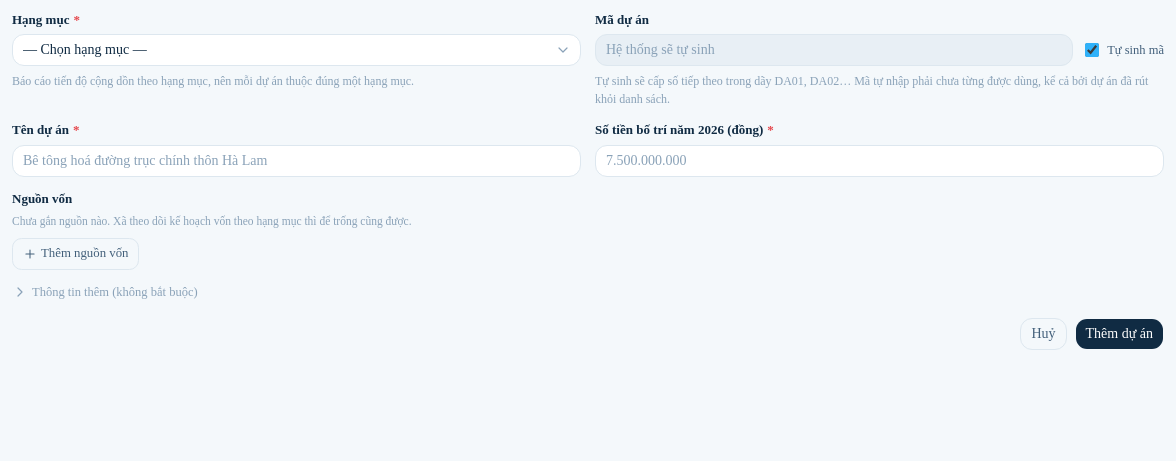
Test: §9 funding list — add form › removing a row gives its source back to the others
Click the button "Thêm nguồn vốn" at (76, 254), box [12,238,139,270]
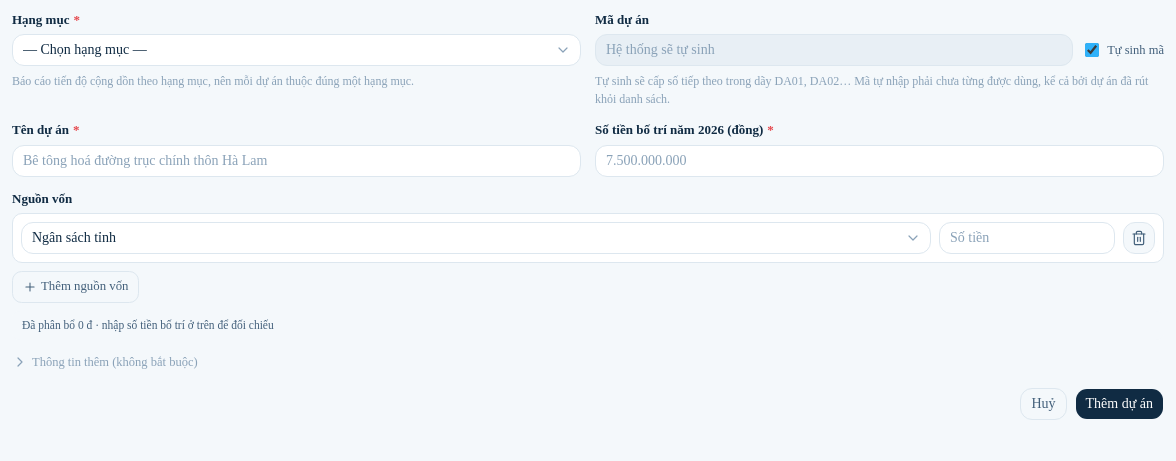
Select "Ngân sách tỉnh" in the 2nd dropdown at (476, 238), box [21,222,931,254]
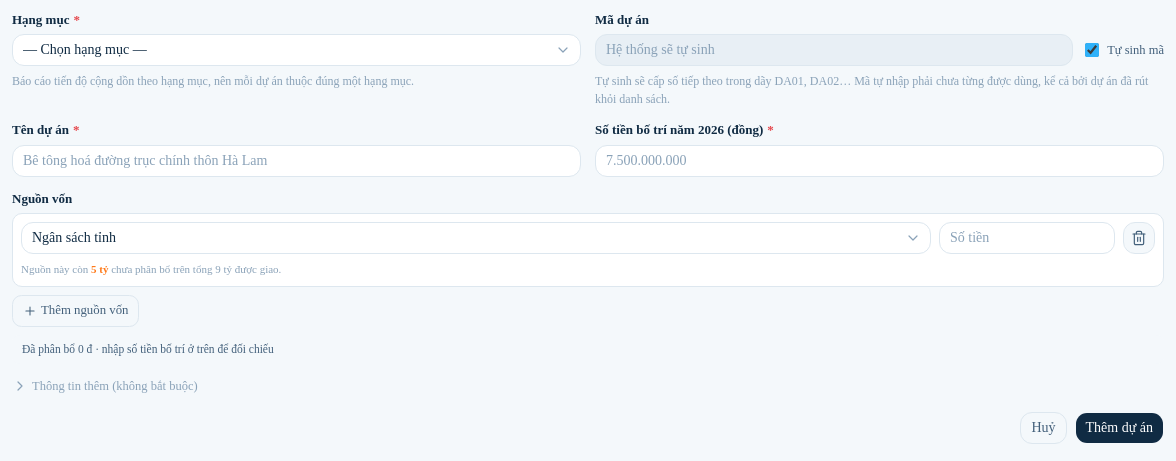
Click the button named "Bỏ nguồn vốn Ngân sách tỉnh" at (1139, 238), box [1123,222,1155,254]
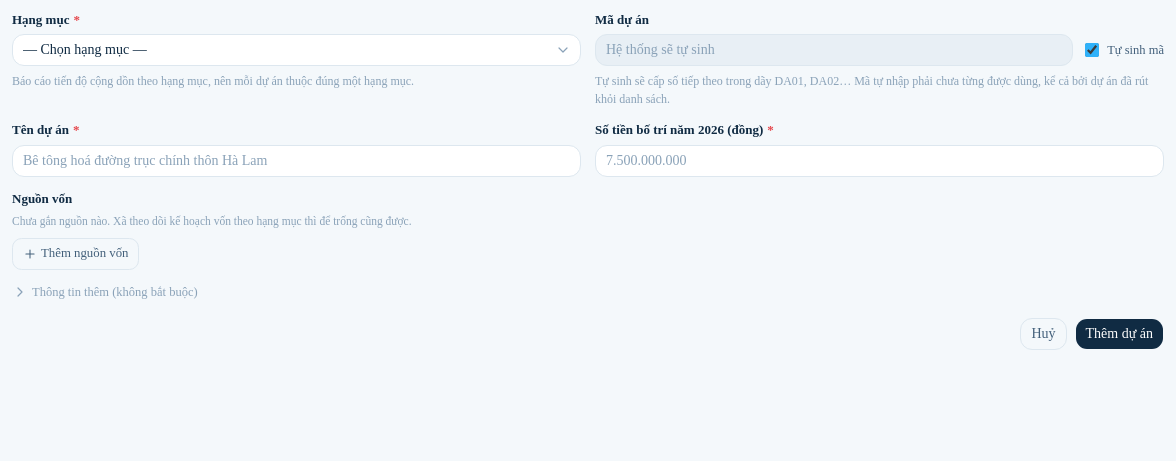
Expected: the text "Chưa gắn nguồn nào." is shown, [12,215,412,227]
